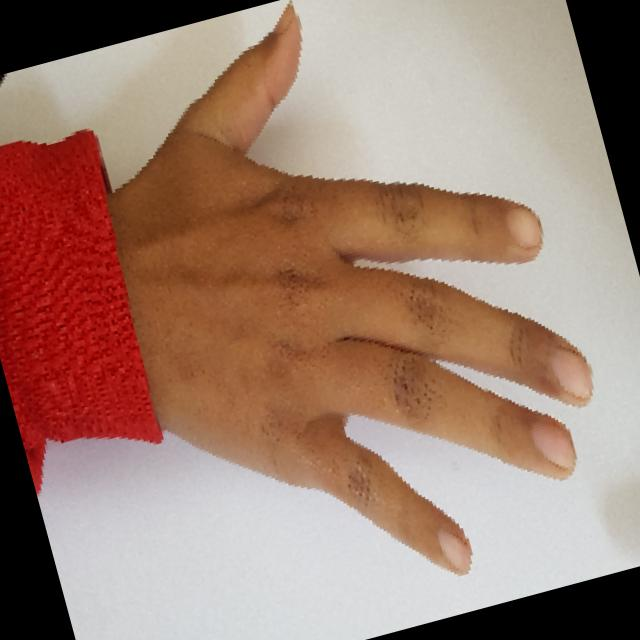Nail: (530, 415, 575, 470), (549, 349, 591, 398), (436, 528, 471, 574), (505, 206, 541, 248), (273, 4, 296, 34)
